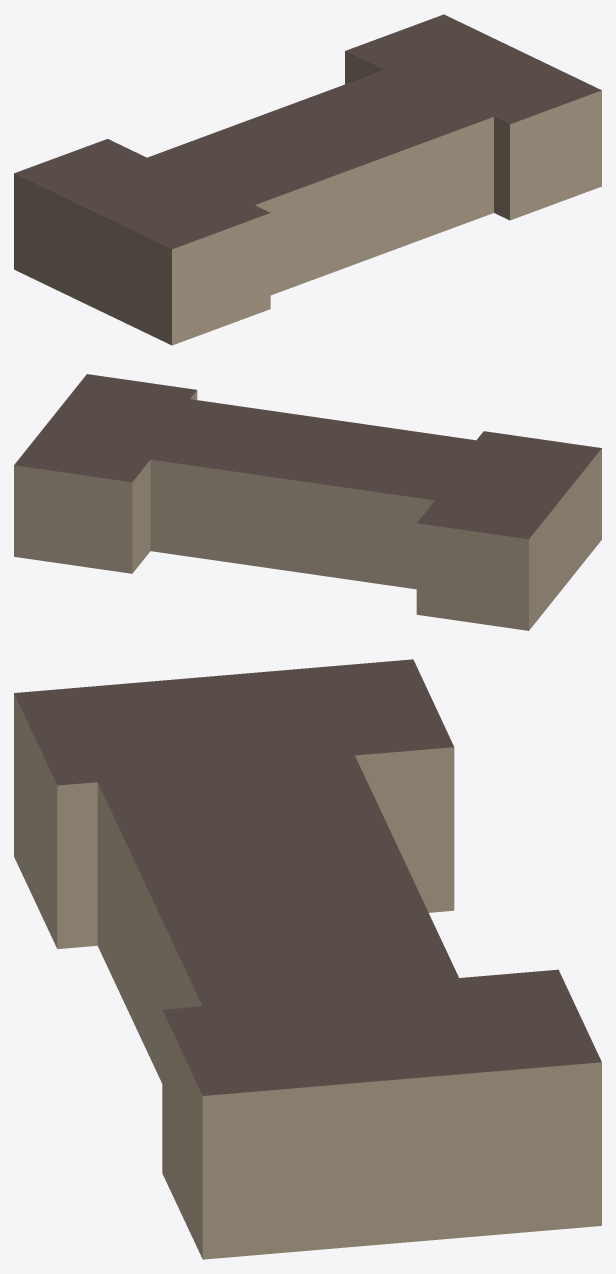
3 views of the same model, one above another, from view 1: azimuth 30°, elevation 25°; view 2: azimuth 150°, elevation 25°; view 3: azimuth 270°, elevation 25° (orthographic). The views are drawn at different scales.
Parts seen in each view (by area): view 1: HP-w859488624; view 2: HP-w859488624; view 3: HP-w859488624.
Part boxes in pixels (x1,y1,x2,y2): HP-w859488624: (14, 14, 601, 345); HP-w859488624: (14, 374, 601, 630); HP-w859488624: (14, 659, 601, 1259).
Size of the model in its own units: 51.52 by 9 by 29.31.
